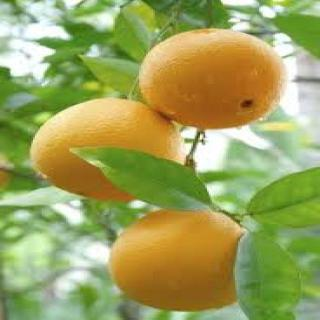orange: (18, 90, 196, 212), (132, 16, 286, 138)
